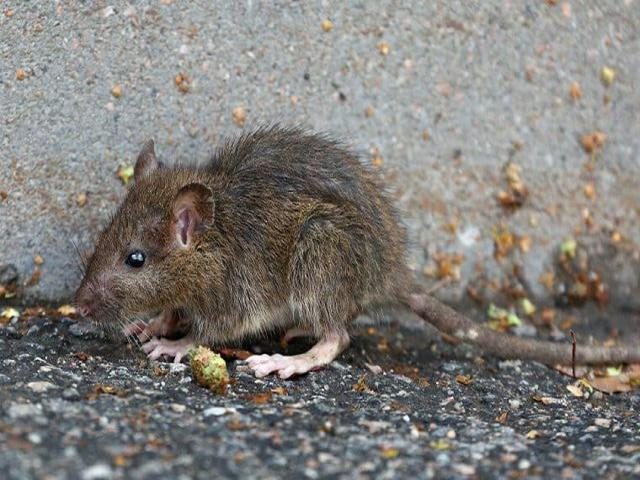Tikus: (70, 127, 603, 381)
